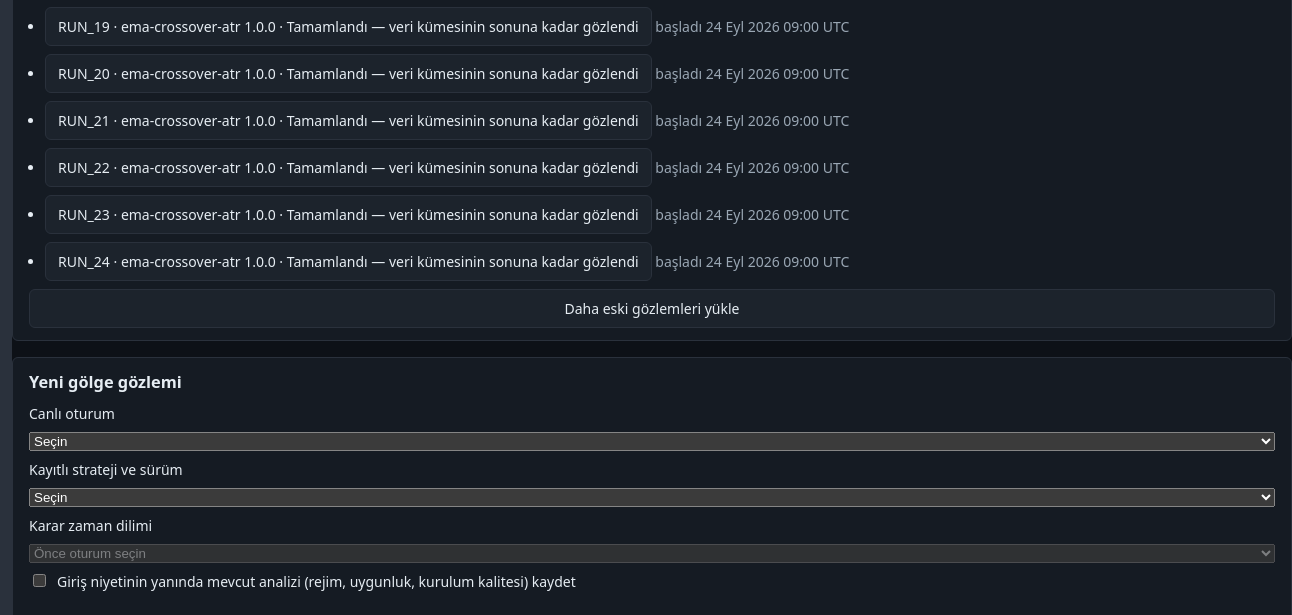
Test: the screen states what it is › pages the run history instead of hiding older runs
(page scrolled)
Click the button "Daha eski gözlemleri yükle": click(652, 309) [29,289,1275,328]
(page scrolled)
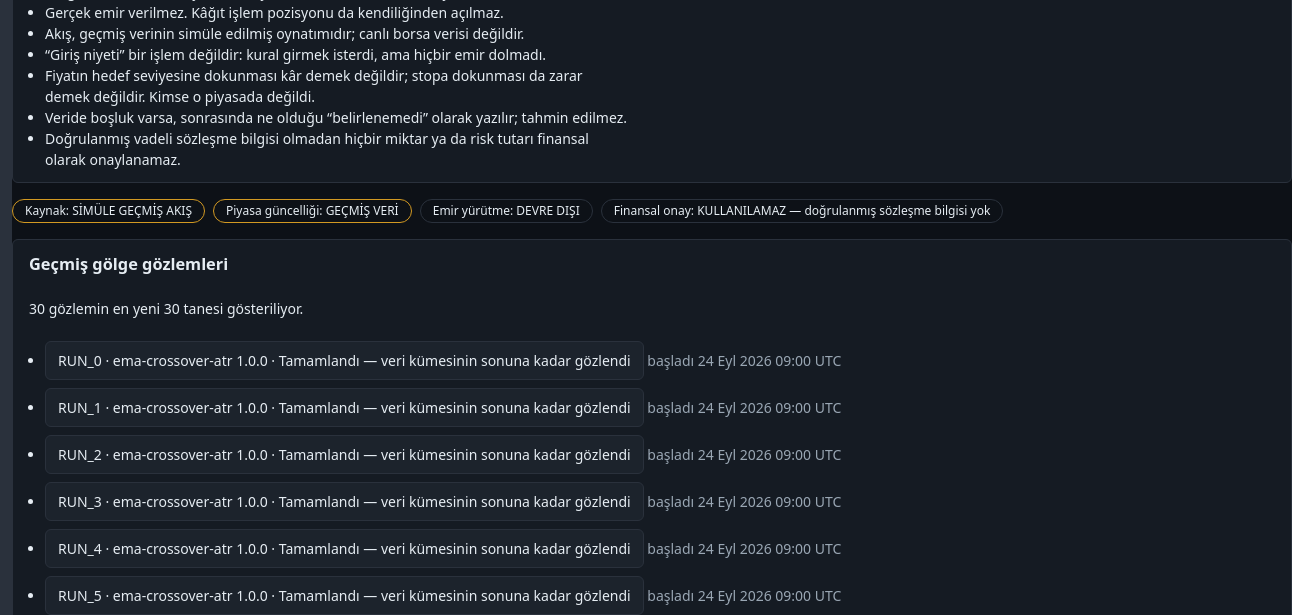
Expected: the text "30 gözlemin en yeni 30 tanesi gösteriliyor." is shown, [29,299,303,318]
Expected: the button "Daha eski gözlemleri yükle" is gone
